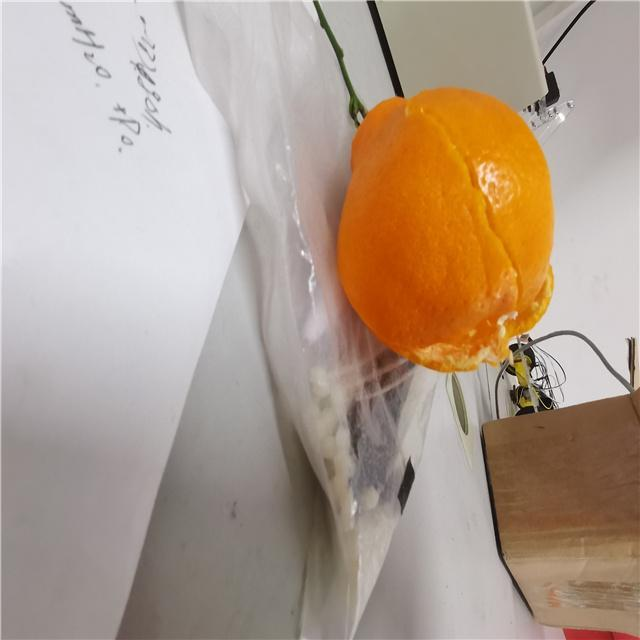orange-peel: (335, 85, 555, 373)
